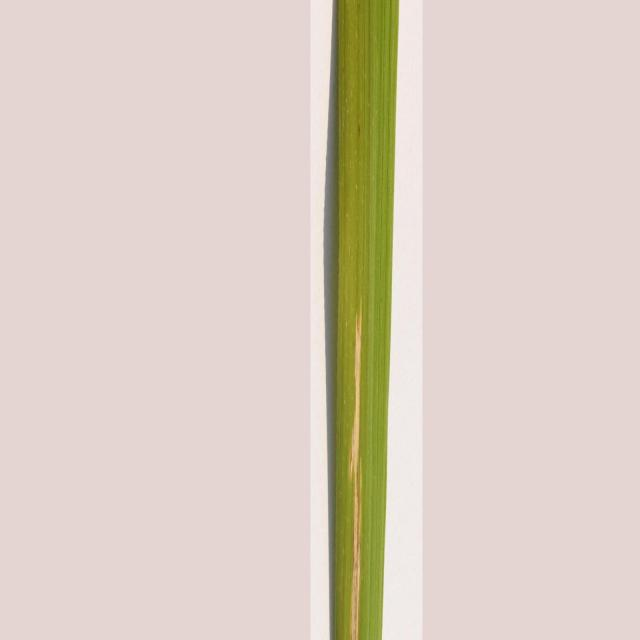Bacterial leaf blight: (329, 3, 400, 640)
